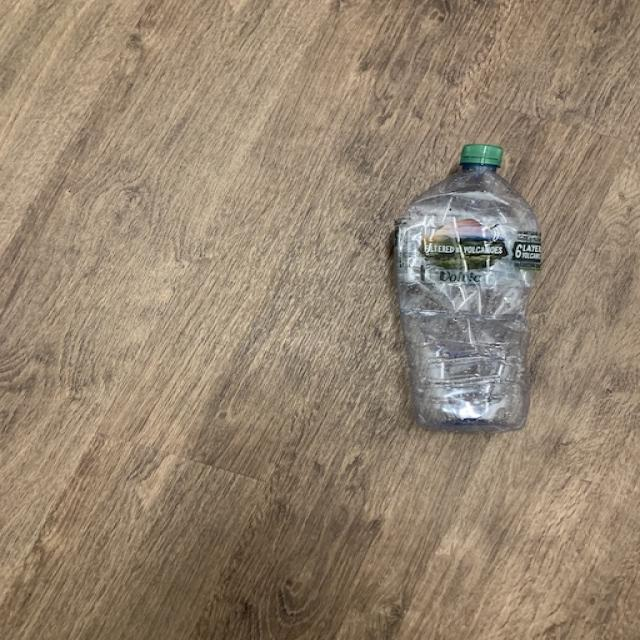litter: (393, 138, 548, 436)
